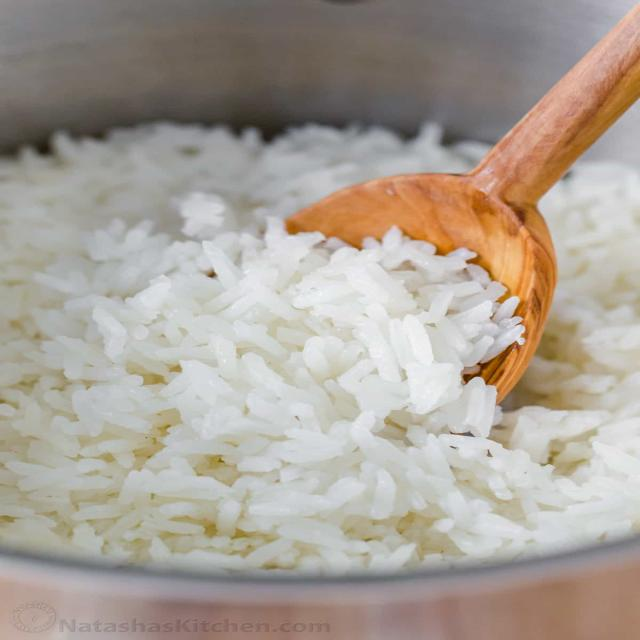Wet Waste: (0, 96, 640, 594)
